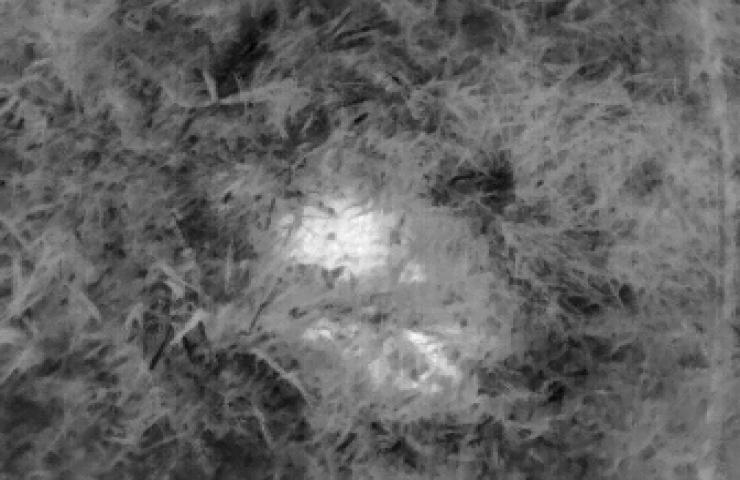landmines: (273, 183, 406, 283)
